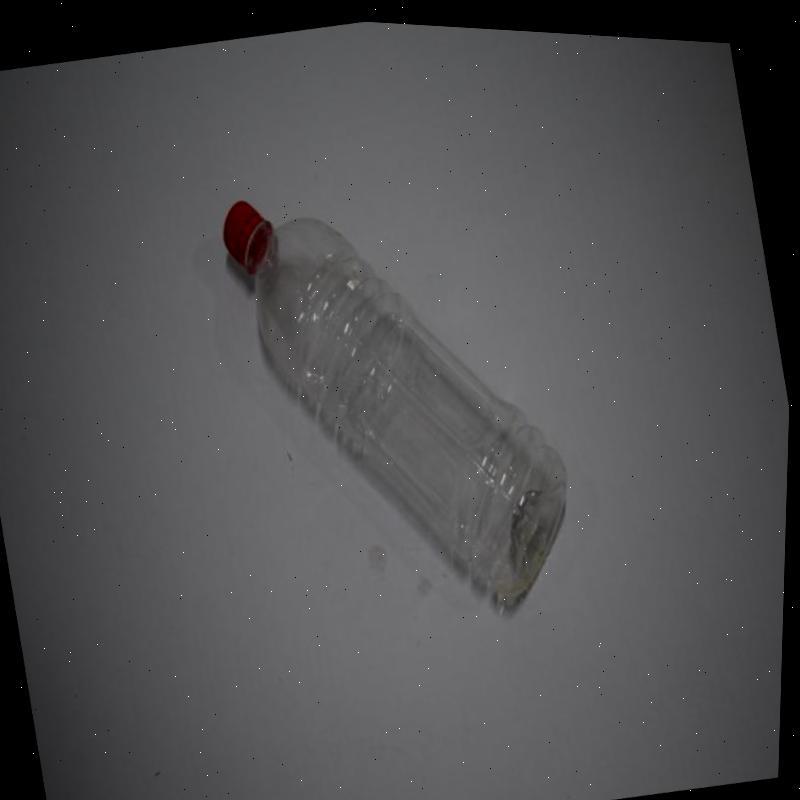botella: (207, 144, 596, 650)
